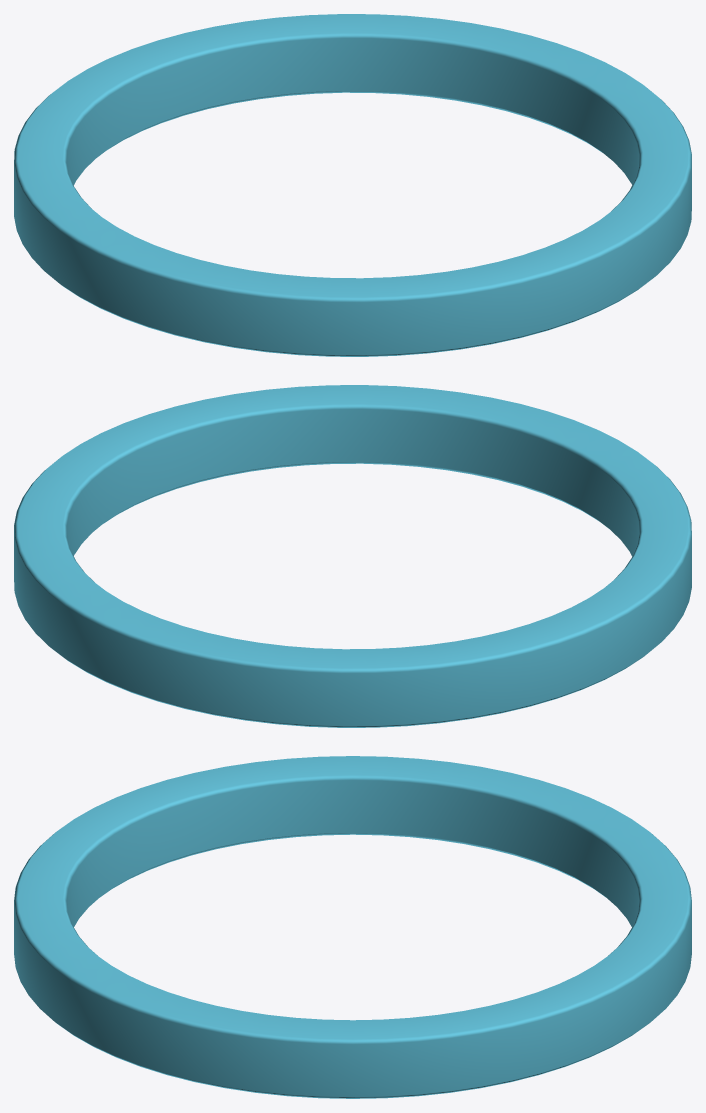
3 renders of one model, top to bottom at view 1: azimuth 30°, elevation 25°; view 2: azimuth 150°, elevation 25°; view 3: azimuth 270°, elevation 25°, orthographic.
Parts seen in each view (by area): view 1: seal_body; view 2: seal_body; view 3: seal_body.
Boxes of the visible parts, x1,y1,x2,y2 form: seal_body: (14, 14, 691, 356); seal_body: (14, 385, 691, 727); seal_body: (14, 756, 691, 1098).
Bounding box in the file's own units: 0.154 × 0.015 × 0.154.
